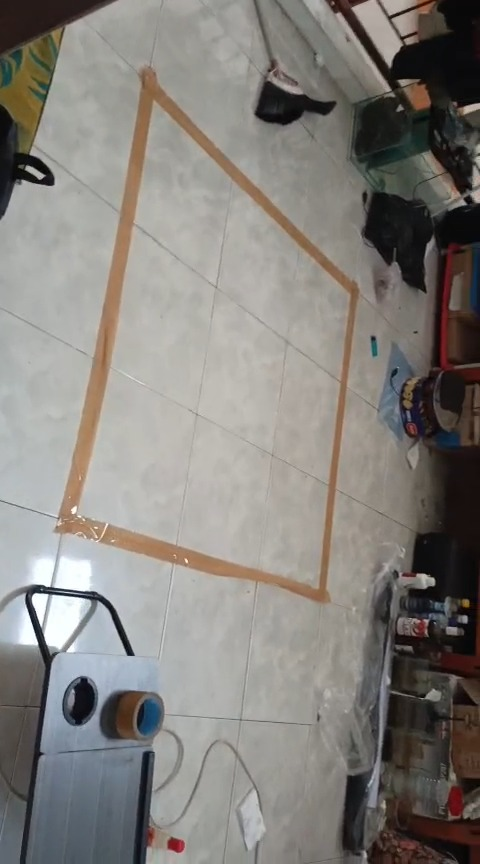floor marking: (56, 66, 359, 602)
